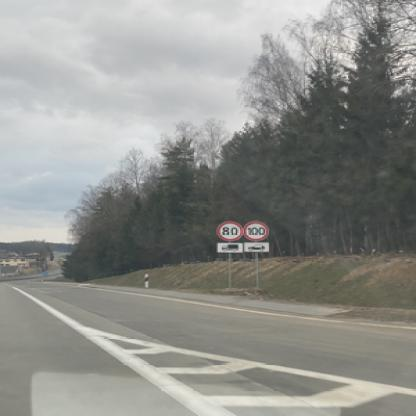speedlimit: (213, 219, 240, 240), (242, 220, 266, 238)
